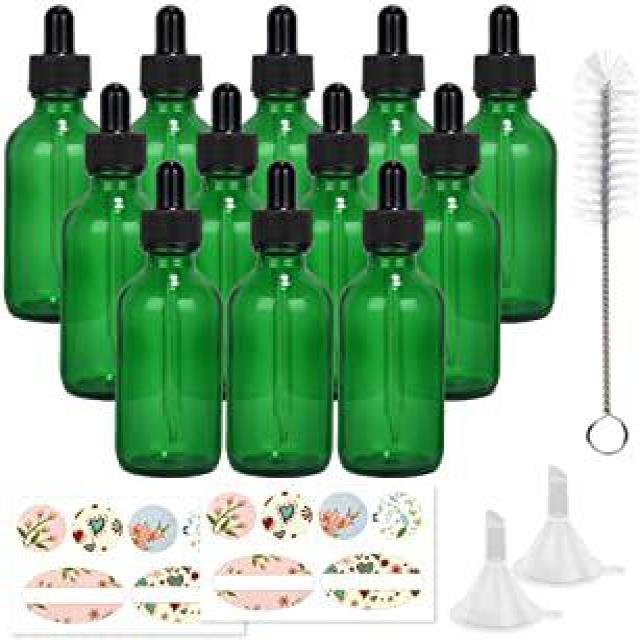non-organic waste: (110, 158, 226, 480)
